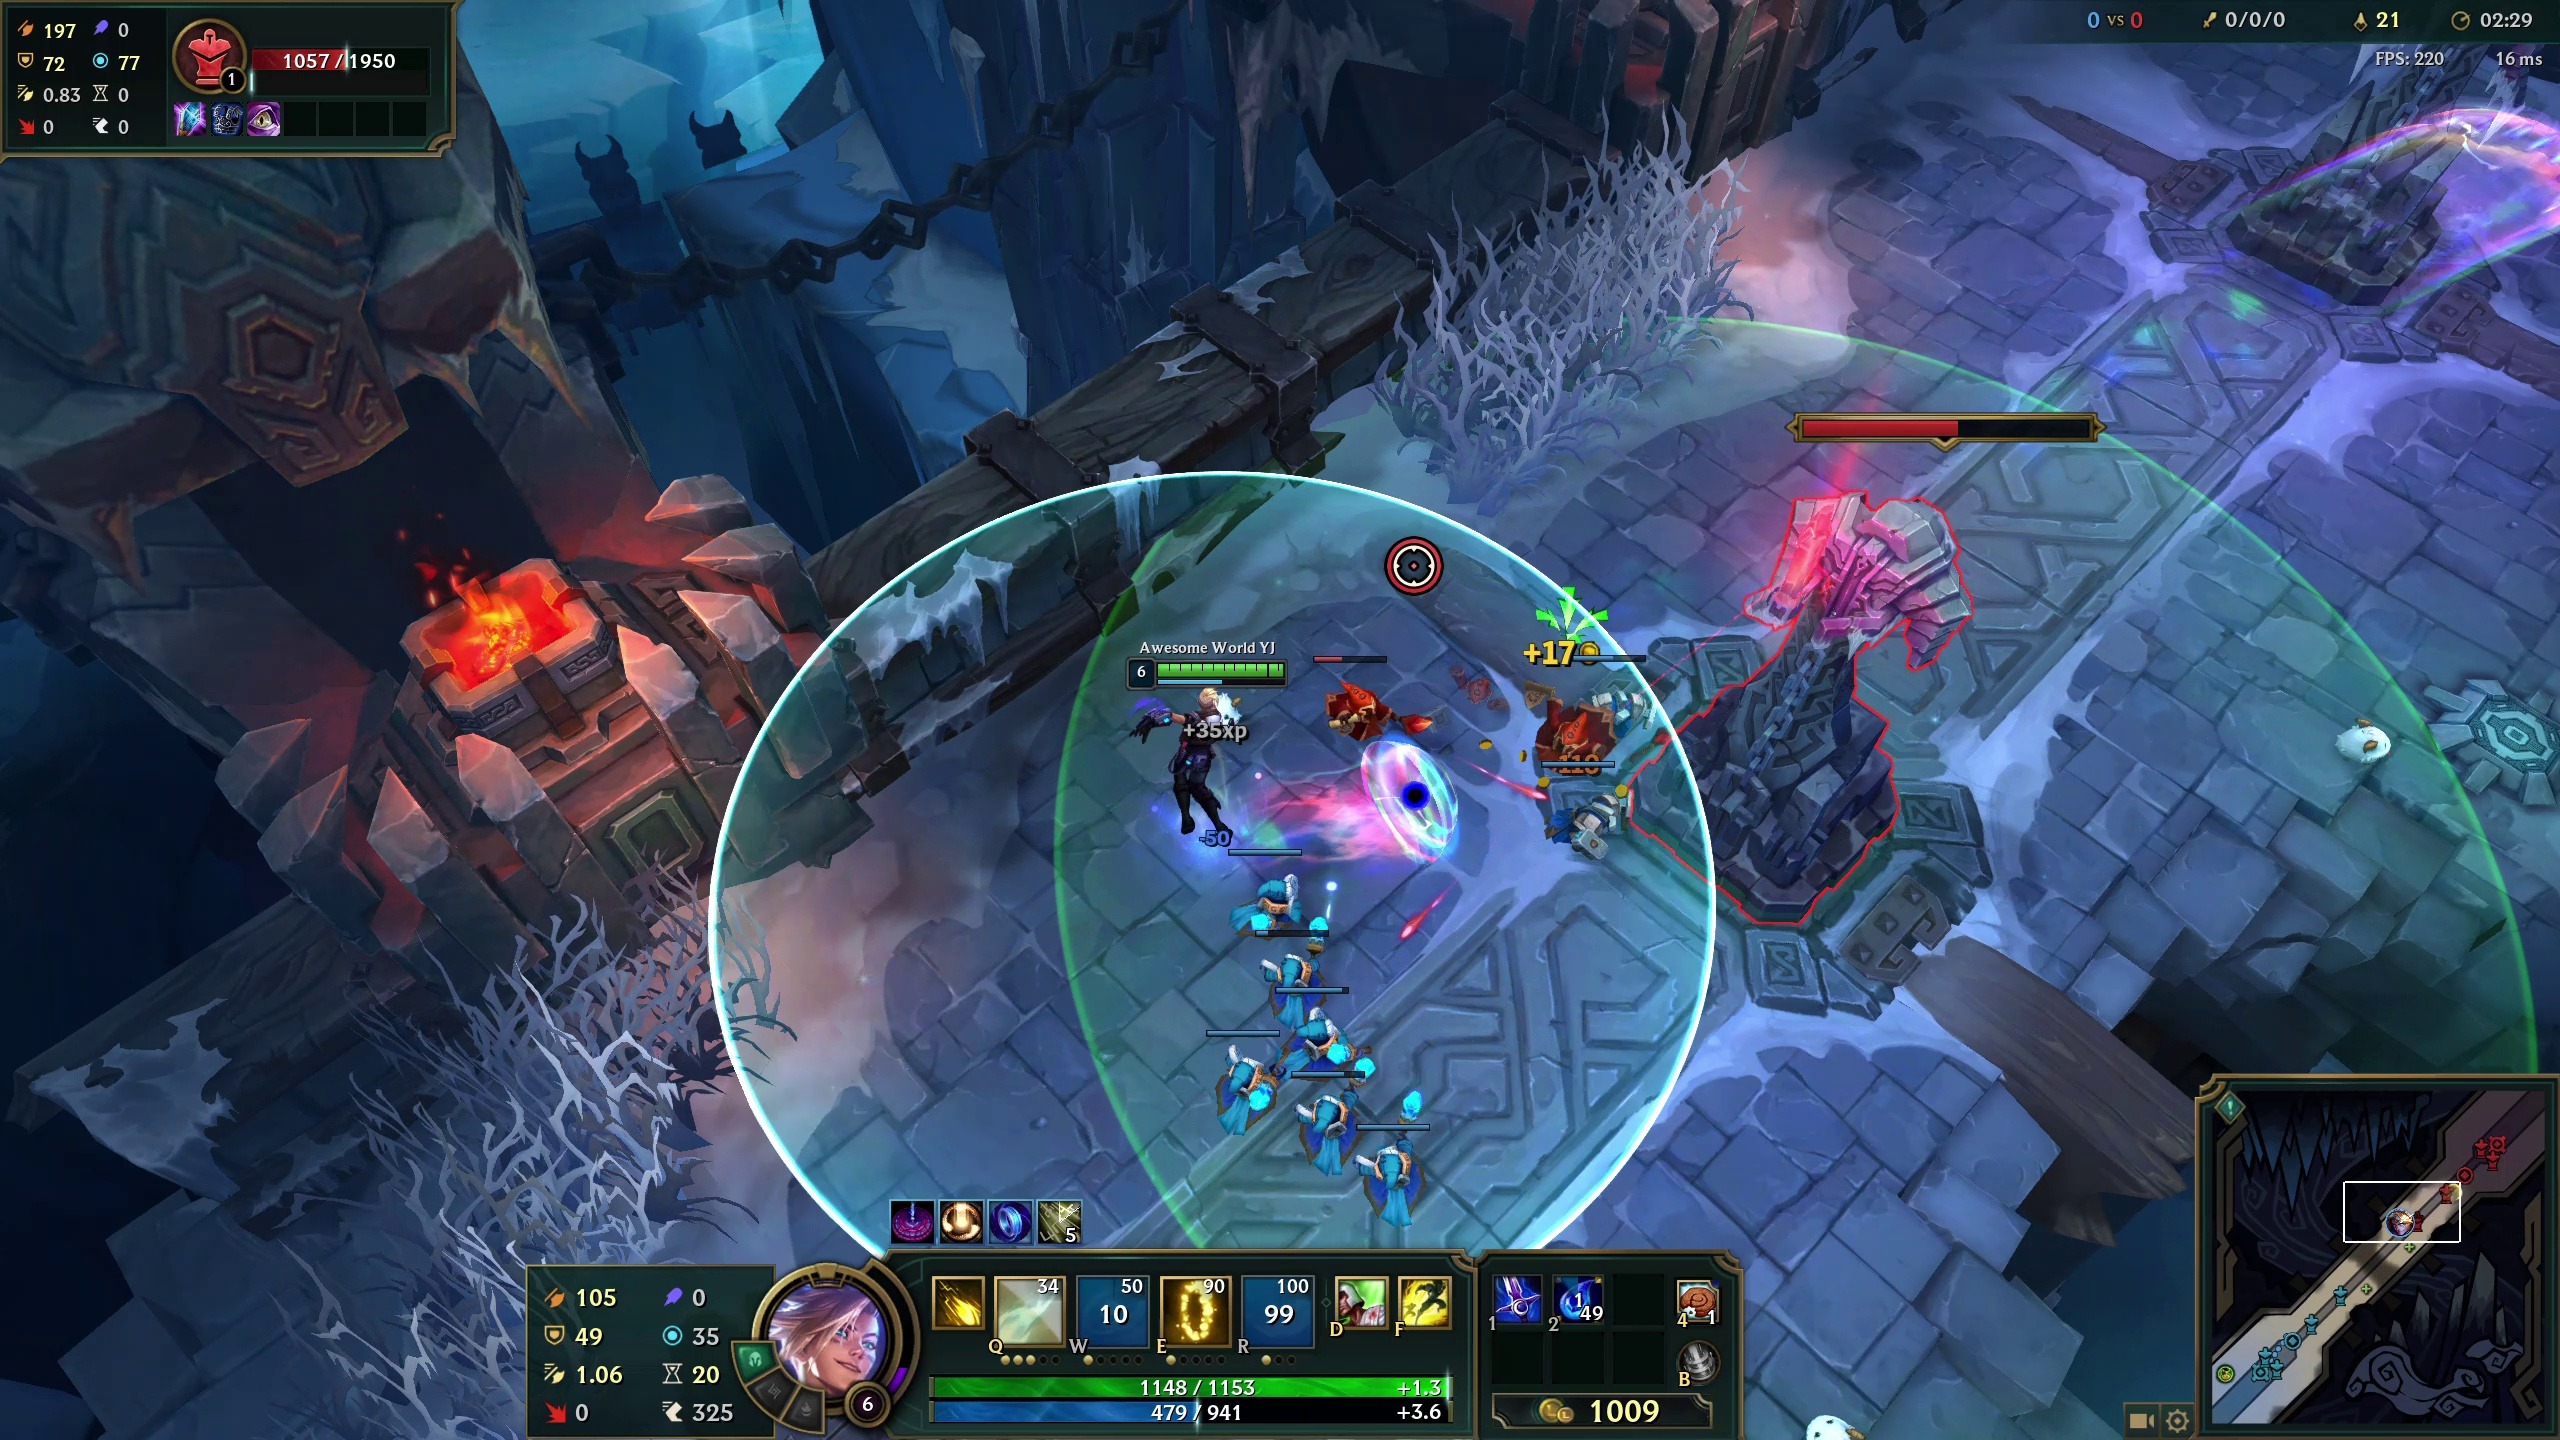EZ: (1111, 633, 1268, 860)
EnemyMinion: (1306, 642, 1394, 744)
Glass: (471, 939, 726, 1194), (1428, 206, 1686, 413), (301, 1273, 529, 1440)
MyMinion: (1229, 847, 1319, 934), (1247, 934, 1336, 1020), (1282, 986, 1371, 1073), (1287, 1073, 1377, 1159), (1347, 1125, 1436, 1211), (1203, 1034, 1292, 1118)
Turret: (1681, 485, 1960, 920), (2233, 81, 2507, 299)
